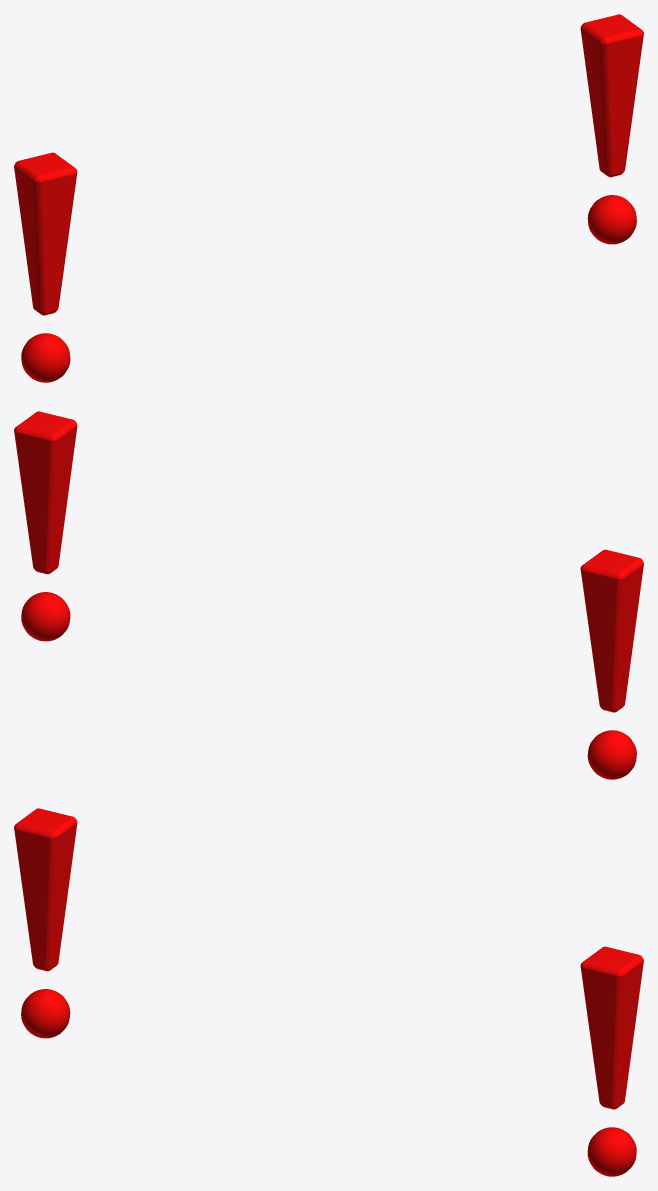
The model's file is exclamatory.gltf.
3 renders of one model, top to bottom at view 1: azimuth 30°, elevation 25°; view 2: azimuth 150°, elevation 25°; view 3: azimuth 330°, elevation 25°, orthographic.
Parts seen in each view (by area): view 1: pCube1 (×2), pSphere1 (×2); view 2: pCube1 (×2), pSphere1 (×2); view 3: pCube1 (×2), pSphere1 (×2).
Boxes of the visible parts, x1,y1,x2,y2 form: pCube1 (×2): (14,14,643,315); pSphere1 (×2): (21,195,636,382); pCube1 (×2): (14,411,643,712); pSphere1 (×2): (21,592,636,779); pCube1 (×2): (14,808,643,1109); pSphere1 (×2): (21,989,636,1176).
Size of the model in its own units: 16.16 by 5.48 by 1.16.
